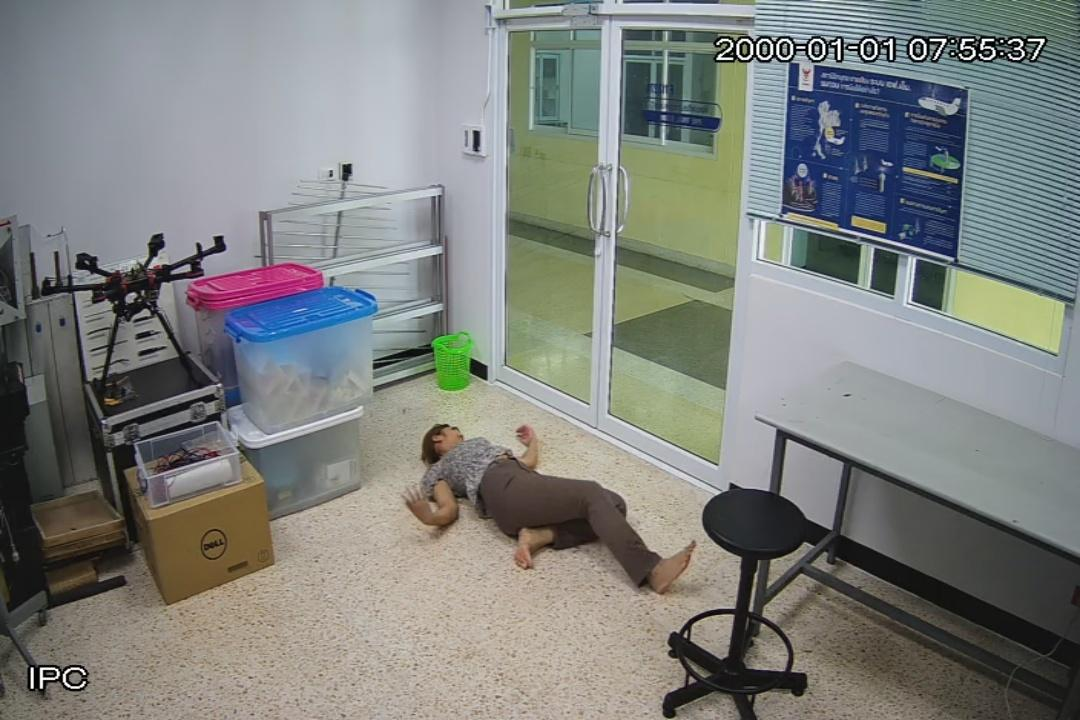fall: (402, 410, 700, 604)
